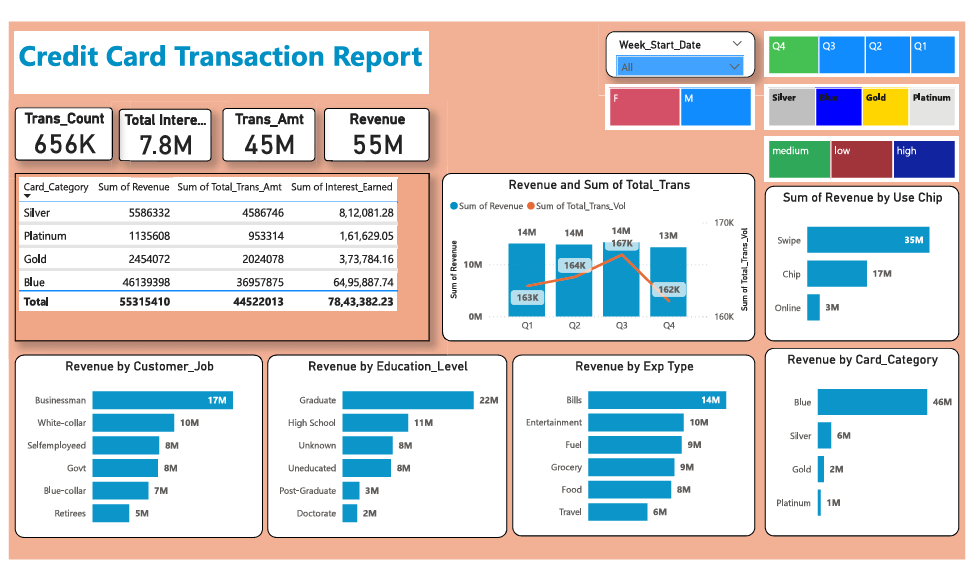

This screenshot's page, from the dashboard's own definition file:
{"tool":"powerbi","page":{"name":"CC Transaction","canvas":[1280,720],"ordinal":0},"visuals":[{"type":"textbox","box":[8.4,14.5,555,83.2],"z":0},{"type":"lineStackedColumnComboChart","title":"Revenue and Sum of Total_Trans","fields":{"Category":["credit_card.Qtr"],"Y":["Sum(credit_card.Revenue)"],"Y2":["Sum(credit_card.Total_Trans_Vol)"]},"box":[580.3,202.7,418.6,225.6],"z":1000},{"type":"barChart","title":"Revenue by Education_Level","fields":{"Y":["Sum(credit_card.Revenue)"],"Category":["customer.Education_Level"]},"box":[346.2,446.4,320.9,244.9],"z":2000},{"type":"barChart","title":"Revenue by Exp Type","fields":{"Y":["Sum(credit_card.Revenue)"],"Category":["credit_card.Exp Type"]},"box":[674.4,446.4,324.5,242.5],"z":3000},{"type":"barChart","title":"Revenue by Customer_Job","fields":{"Y":["Sum(credit_card.Revenue)"],"Category":["customer.Customer_Job"]},"box":[8.4,446.4,331.8,244.9],"z":4000},{"type":"barChart","title":"Revenue by Card_Category","fields":{"Y":["Sum(credit_card.Revenue)"],"Category":["credit_card.Card_Category"]},"box":[1012.2,436.7,259.4,252.1],"z":5000},{"type":"barChart","fields":{"Y":["Sum(credit_card.Revenue)"],"Category":["credit_card.Use Chip"]},"box":[1012.2,219.6,259.4,208.7],"z":6000},{"type":"tableEx","fields":{"Values":["credit_card.Card_Category","Sum(credit_card.Revenue)","Sum(credit_card.Total_Trans_Amt)","Sum(credit_card.Interest_Earned)"]},"box":[8.4,202.7,555,225.6],"z":7000},{"type":"card","title":"Revenue","fields":{"Values":["Sum(credit_card.Revenue)"]},"box":[422.3,115.8,141.2,71.2],"z":8000},{"type":"card","title":"Total Interest","fields":{"Values":["Sum(credit_card.Interest_Earned)"]},"box":[147.2,117,124.3,70],"z":9000},{"type":"card","title":"Trans_Amt","fields":{"Values":["Sum(credit_card.Total_Trans_Amt)"]},"box":[285.9,115.8,124.3,71.2],"z":10000},{"type":"card","title":"Trans_Count","fields":{"Values":["Sum(credit_card.Total_Trans_Vol)"]},"box":[8.4,114.6,130.3,71.2],"z":11000},{"type":"slicer","fields":{"Values":["credit_card.Week_Start_Date"]},"box":[798.7,13.3,200.3,61.5],"z":12000},{"type":"treemap","fields":{"Group":["credit_card.Qtr"],"Values":["Avg(credit_card.Client_Num)"]},"box":[1012.2,14.5,259.4,60.3],"z":13000},{"type":"treemap","fields":{"Group":["customer.IncomeGroup"],"Values":["Avg(credit_card.Client_Num)"]},"box":[1012.2,154.4,259.4,60.3],"z":14000},{"type":"treemap","fields":{"Group":["credit_card.Card_Category"],"Values":["Avg(credit_card.Client_Num)"]},"box":[1012.2,84.5,259.4,60.3],"z":15000},{"type":"treemap","fields":{"Values":["Avg(credit_card.Client_Num)"],"Group":["customer.Gender"]},"box":[798.7,84.5,200.3,60.3],"z":16000}]}

Visuals, with their boxes in screenshot pixels (x1, y1, x2, y2):
textbox: [x1=9, y1=29, x2=427, y2=91]
"Revenue and Sum of Total_Trans" lineStackedColumnComboChart: [x1=439, y1=170, x2=754, y2=340]
"Revenue by Education_Level" barChart: [x1=263, y1=354, x2=505, y2=538]
"Revenue by Exp Type" barChart: [x1=510, y1=354, x2=754, y2=536]
"Revenue by Customer_Job" barChart: [x1=9, y1=354, x2=259, y2=538]
"Revenue by Card_Category" barChart: [x1=764, y1=347, x2=960, y2=536]
barChart - Sum(credit_card.Revenue) x credit_card.Use Chip: [x1=764, y1=183, x2=960, y2=340]
tableEx - credit_card.Card_Category x Sum(credit_card.Revenue): [x1=9, y1=170, x2=427, y2=340]
"Revenue" card: [x1=320, y1=105, x2=427, y2=159]
"Total Interest" card: [x1=113, y1=106, x2=207, y2=159]
"Trans_Amt" card: [x1=218, y1=105, x2=311, y2=159]
"Trans_Count" card: [x1=9, y1=104, x2=107, y2=158]
slicer - credit_card.Week_Start_Date: [x1=604, y1=28, x2=755, y2=74]
treemap - credit_card.Qtr x Avg(credit_card.Client_Num): [x1=764, y1=29, x2=960, y2=74]
treemap - customer.IncomeGroup x Avg(credit_card.Client_Num): [x1=764, y1=134, x2=960, y2=179]
treemap - credit_card.Card_Category x Avg(credit_card.Client_Num): [x1=764, y1=81, x2=960, y2=127]
treemap - Avg(credit_card.Client_Num) x customer.Gender: [x1=604, y1=81, x2=755, y2=127]
